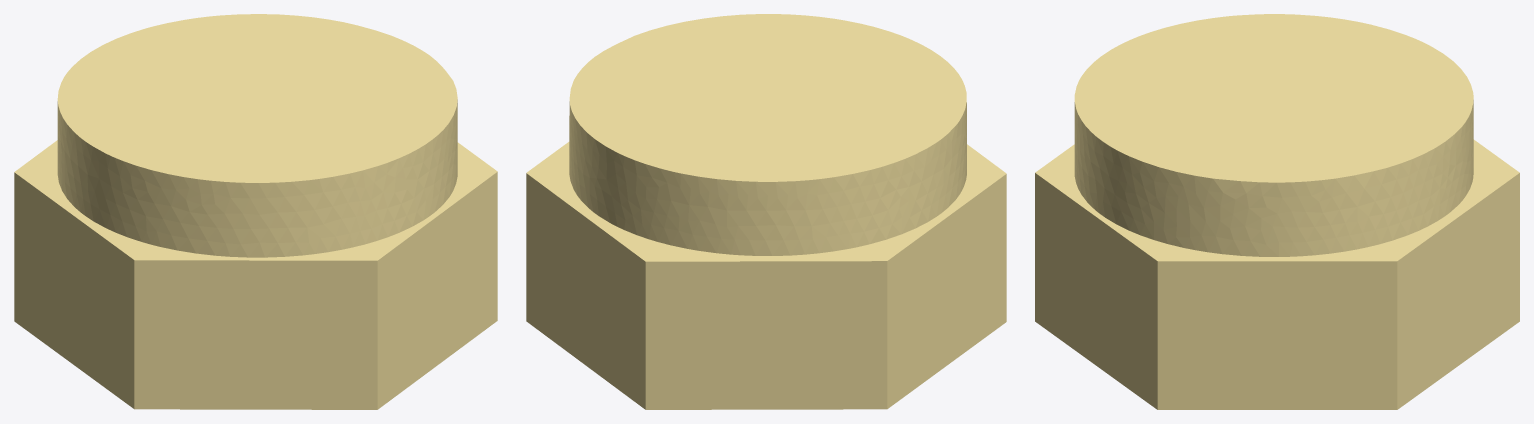
Rendered from input.gltf.
3 renders of one model, left to right at view 1: azimuth 30°, elevation 25°; view 2: azimuth 150°, elevation 25°; view 3: azimuth 270°, elevation 25°, orthographic.
Parts seen in each view (by area): view 1: Renderer Node; view 2: Renderer Node; view 3: Renderer Node.
Part boxes in pixels (x1=…): Renderer Node: x1=14, y1=14, x2=497, y2=409; Renderer Node: x1=526, y1=14, x2=1006, y2=409; Renderer Node: x1=1035, y1=14, x2=1519, y2=409.
Bounding box in the file's own units: 1.27 × 0.75 × 1.48.
